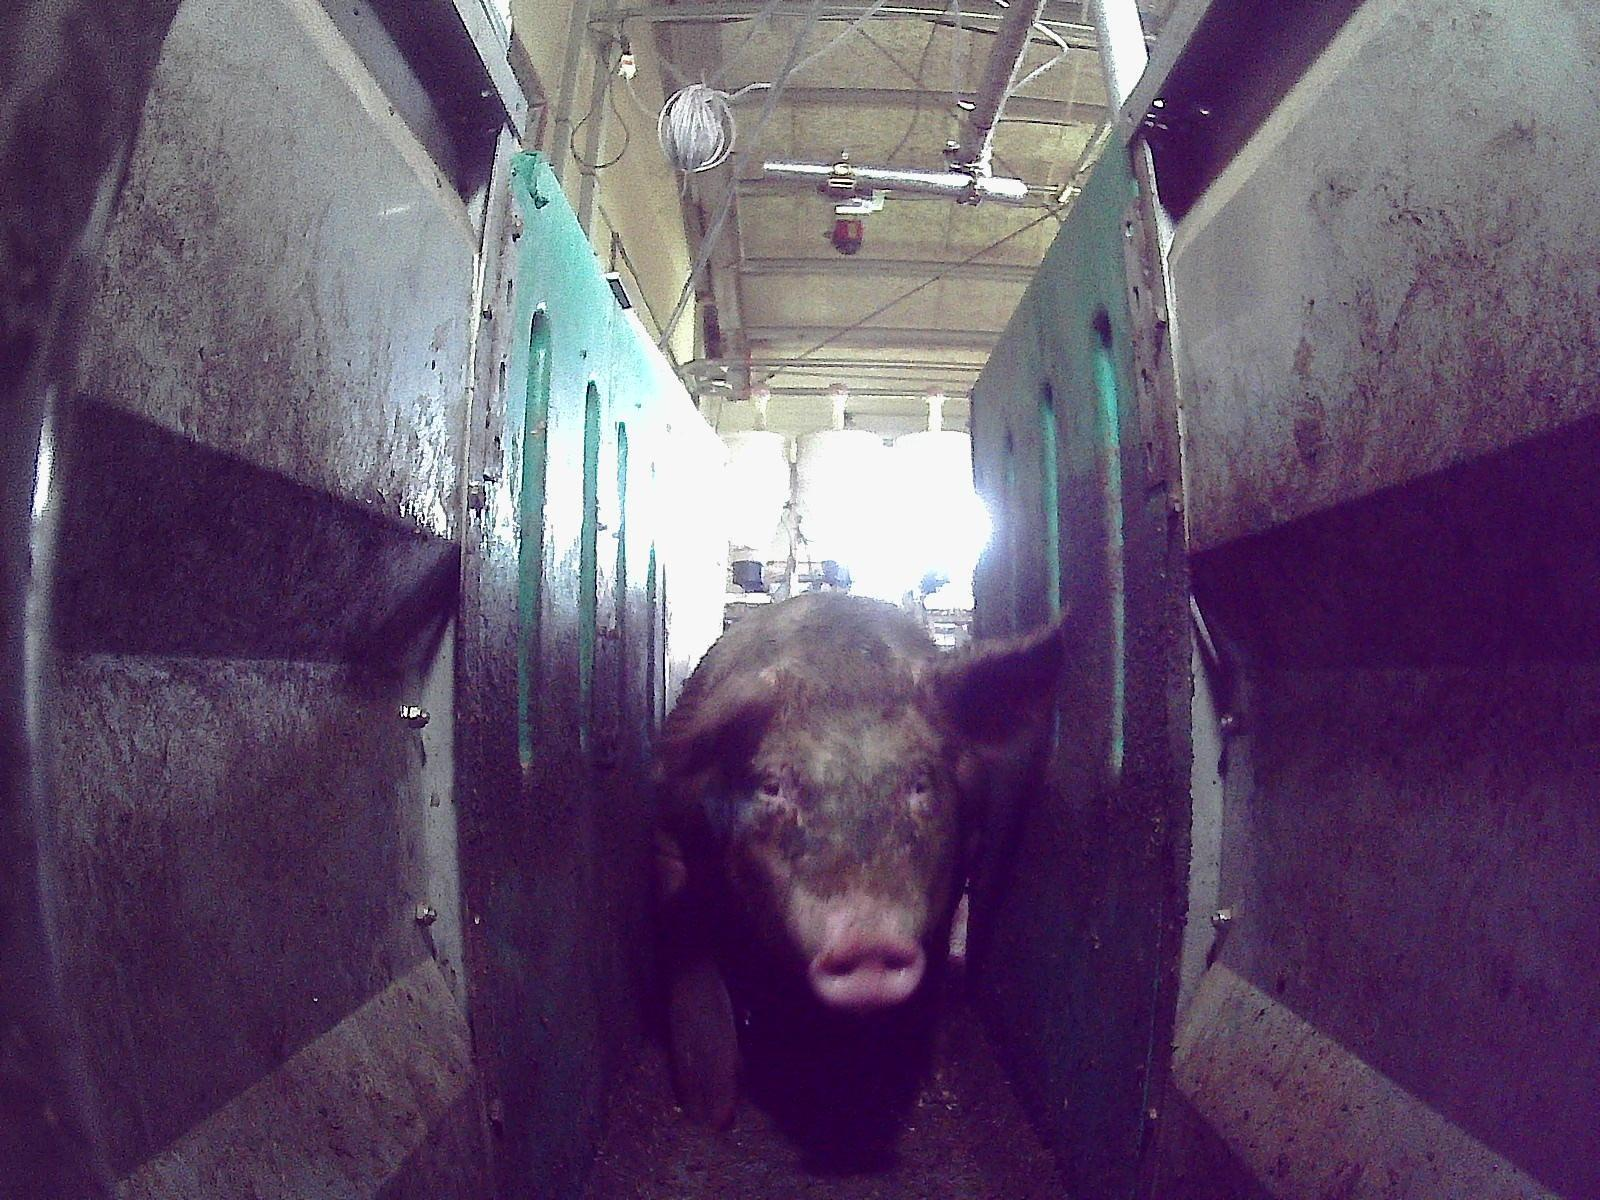Face: (738, 693, 962, 1011)
